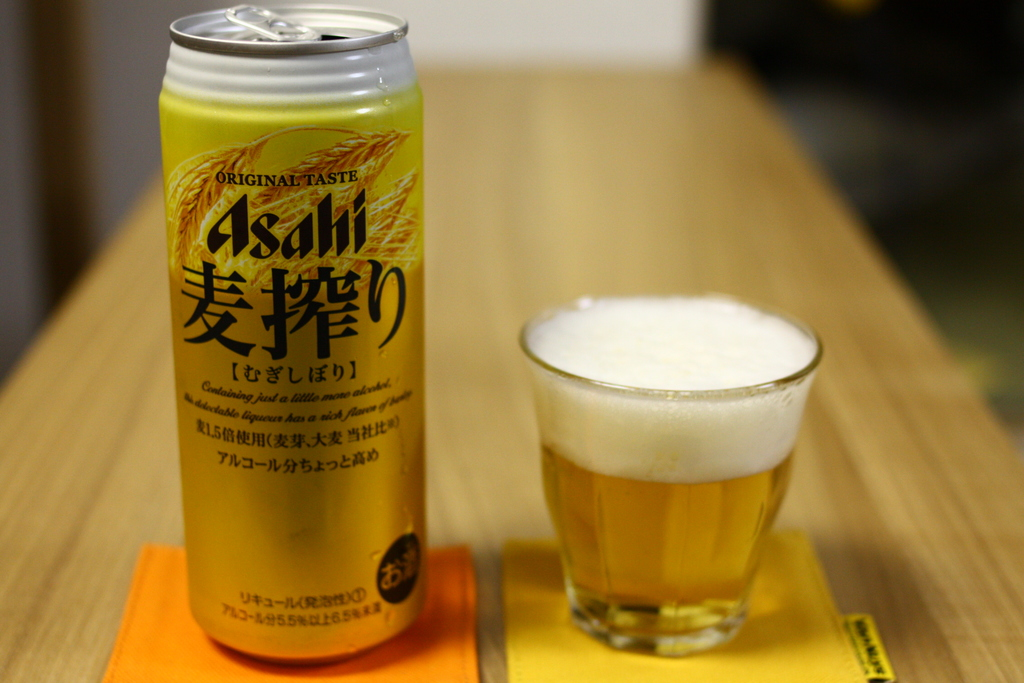Beer: (152, 2, 444, 672), (504, 270, 844, 672)
